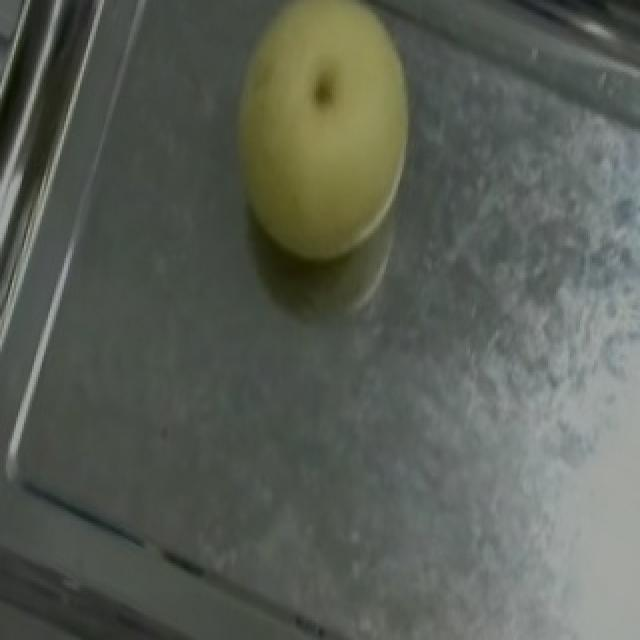Fruit: (190, 0, 456, 295)
